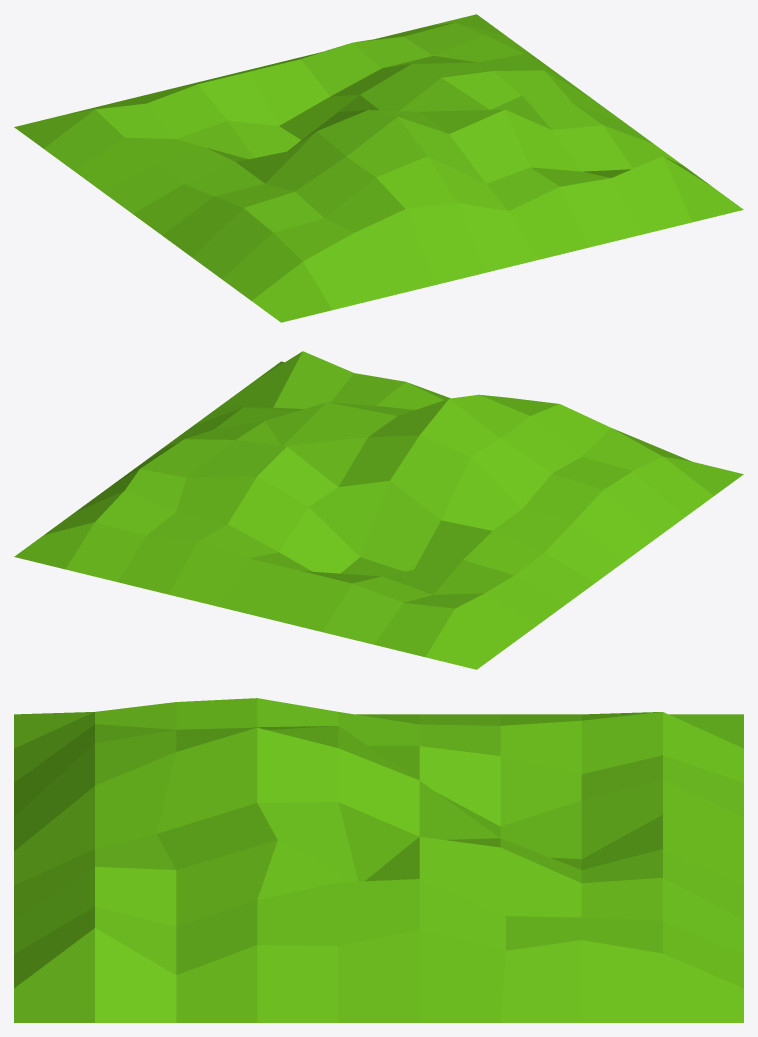
Rendered from hill_003.fbx.
3 views of the same model, one above another, from view 1: azimuth 30°, elevation 25°; view 2: azimuth 150°, elevation 25°; view 3: azimuth 270°, elevation 25° (orthographic). The views are drawn at different scales.
Visible parts, largest first — view 1: Grid; view 2: Grid; view 3: Grid.
Part boxes in pixels (x1,y1,x2,y2): Grid: (14,14,743,322); Grid: (14,351,743,669); Grid: (14,698,743,1022).
Size of the model in its own units: 600 by 121 by 600.
